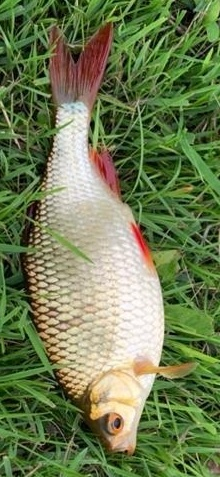Scardinius erythrophthalmus: (20, 20, 200, 457)
